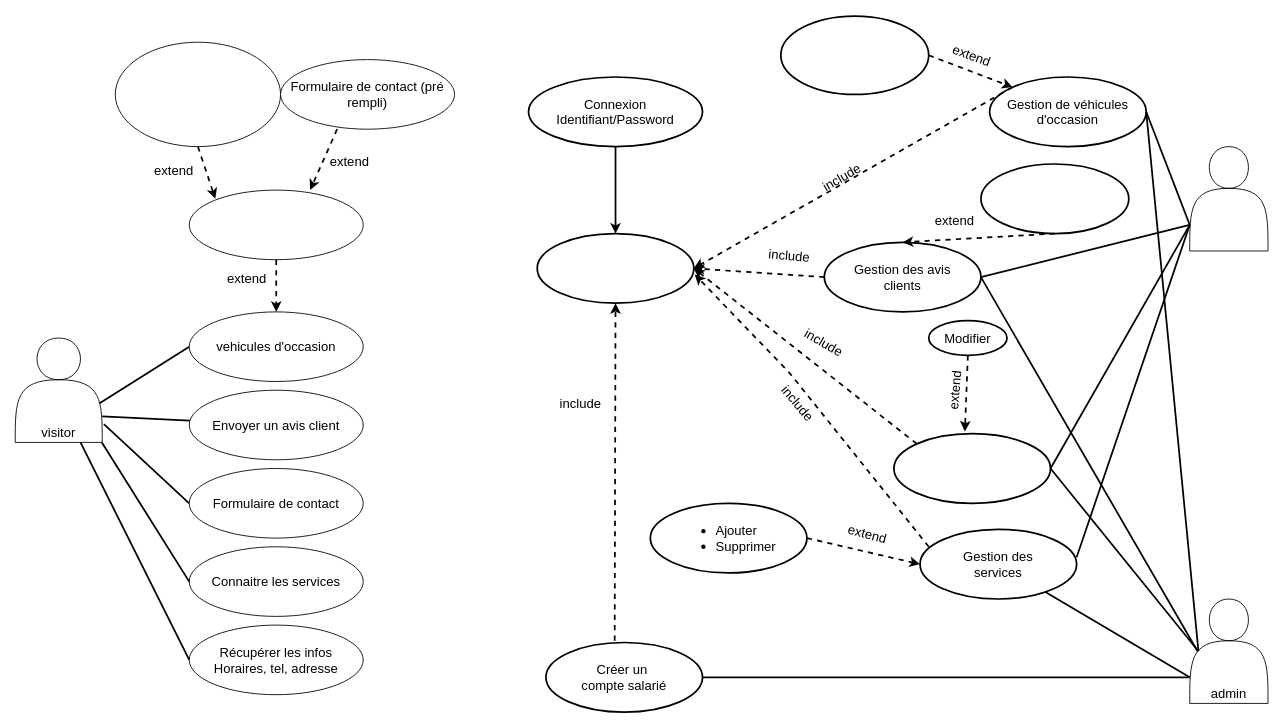
The diagram is 1283 pixels wide and 727 high, and some of its shapes have lost their labels. The box of each missing label's shape, as (x1, y1, x2, y2) in pixels:
Ajouter Modifier Supprimer: (780, 15, 929, 95)
Ajouter Vérifier / publier: (980, 163, 1129, 234)
Filtre de recherche tri: (188, 189, 363, 260)
Gestion des horaires: (893, 432, 1051, 504)
Interface d'administration: (536, 232, 694, 304)
Prix Kilométrage Année Date d'ajout: (114, 41, 281, 147)
user (salarié): (1189, 146, 1268, 251)
